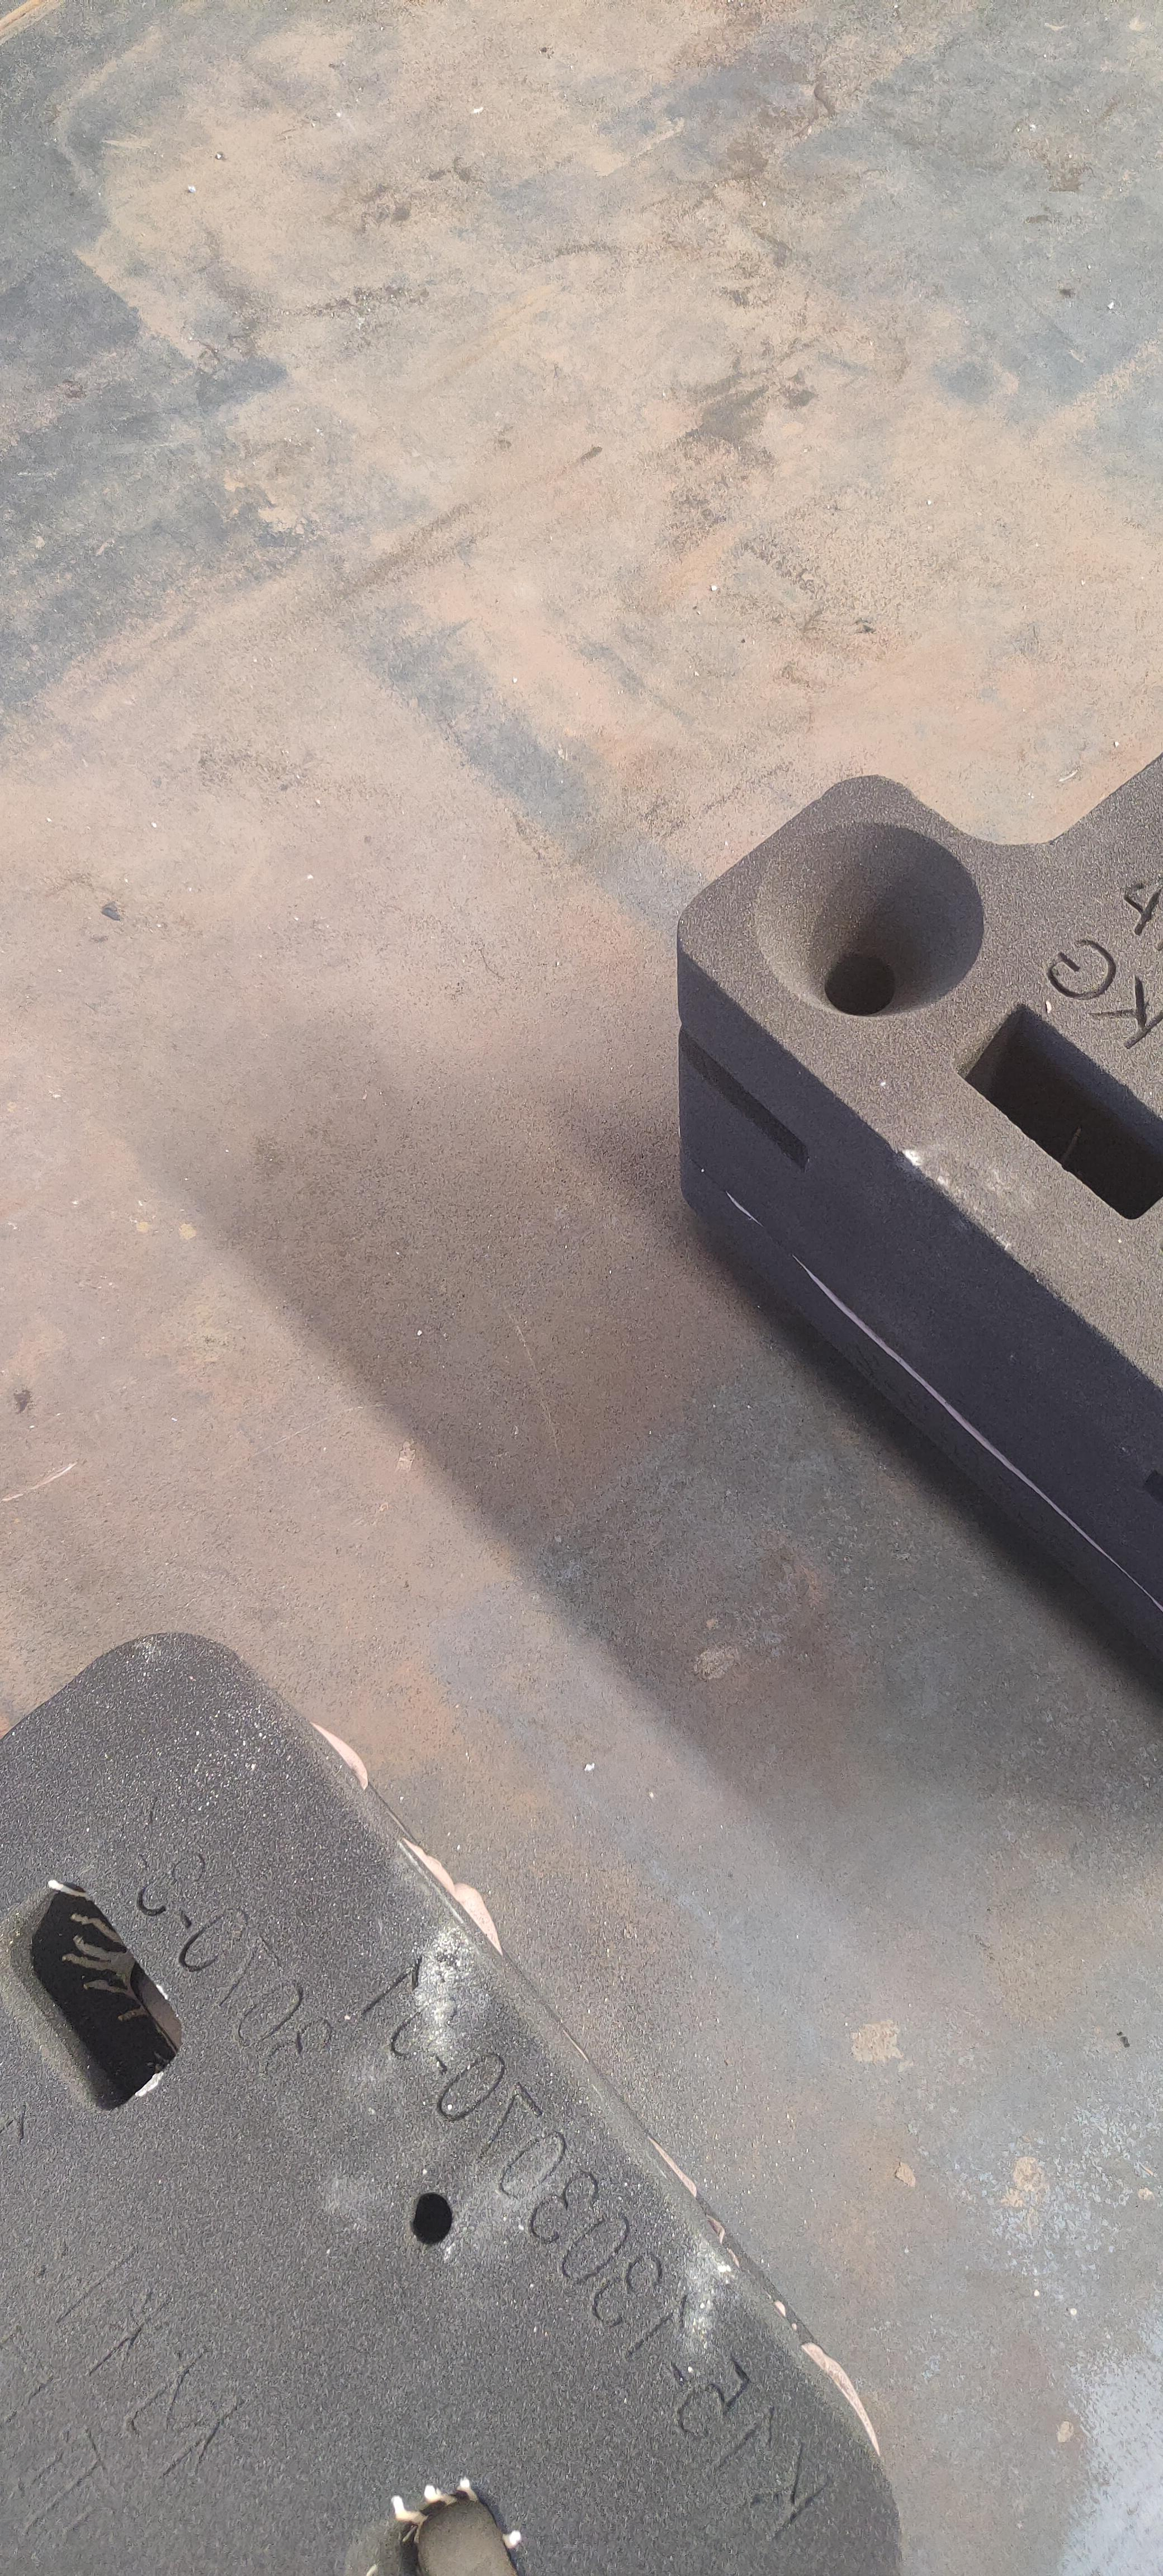pouring hole: (754, 820, 982, 1019)
